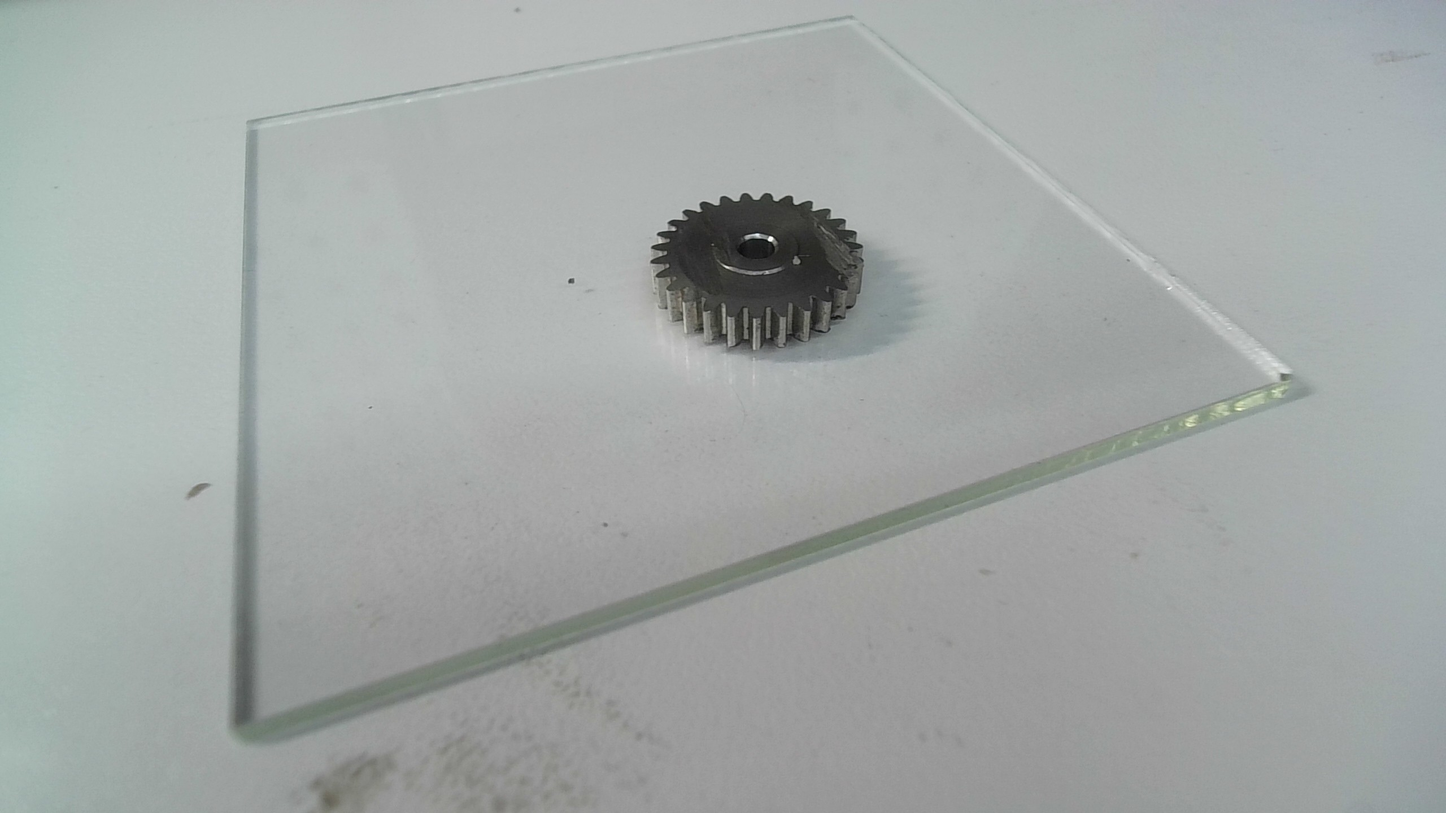gear: (644, 190, 868, 355)
